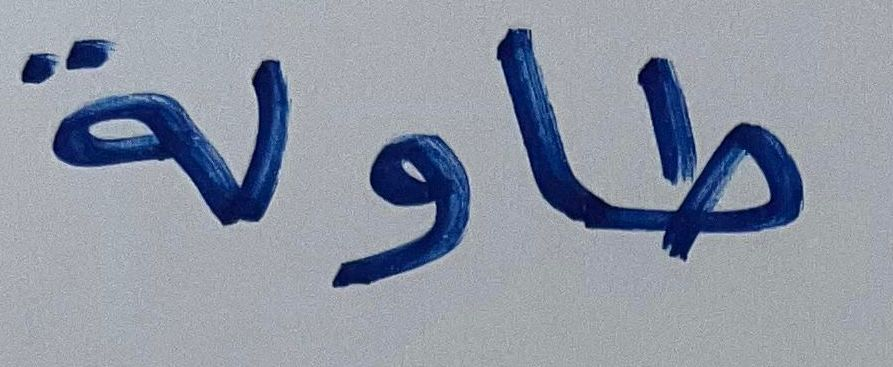alef: (488, 13, 599, 244)
tah: (617, 48, 817, 291)
teh_marbota: (13, 33, 224, 252)
waw: (327, 112, 480, 302), (230, 45, 303, 249)
